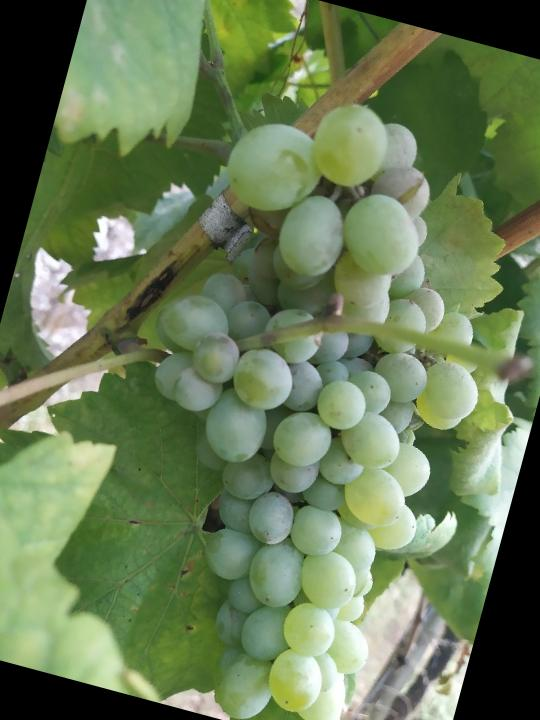grape: (67, 70, 540, 720)
